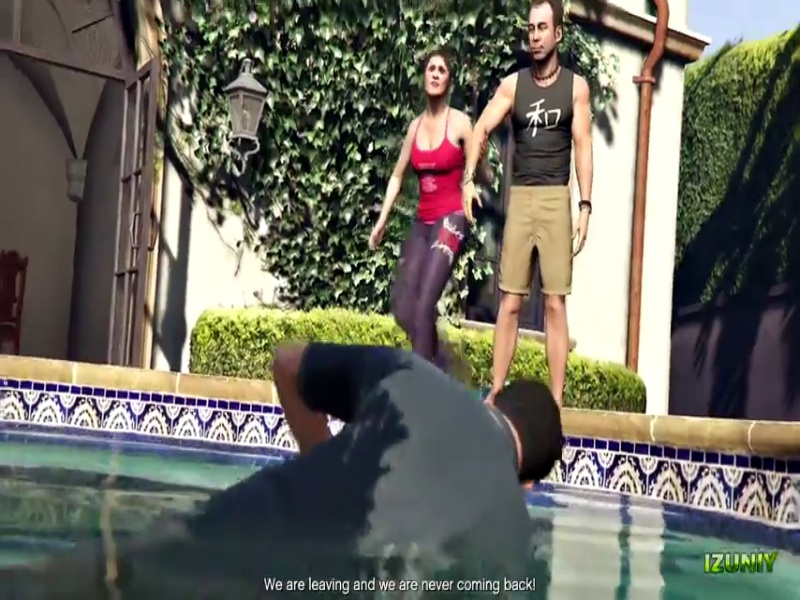human: (474, 12, 598, 388)
